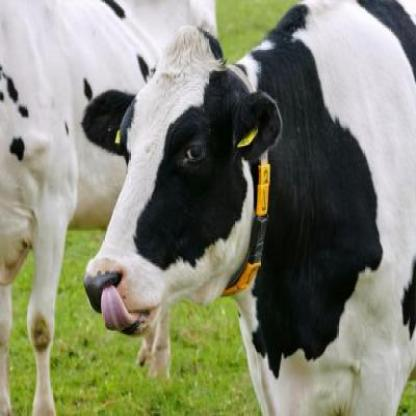lower: (130, 322, 154, 330)
mouth: (82, 258, 159, 335)
upper: (95, 277, 106, 283)
